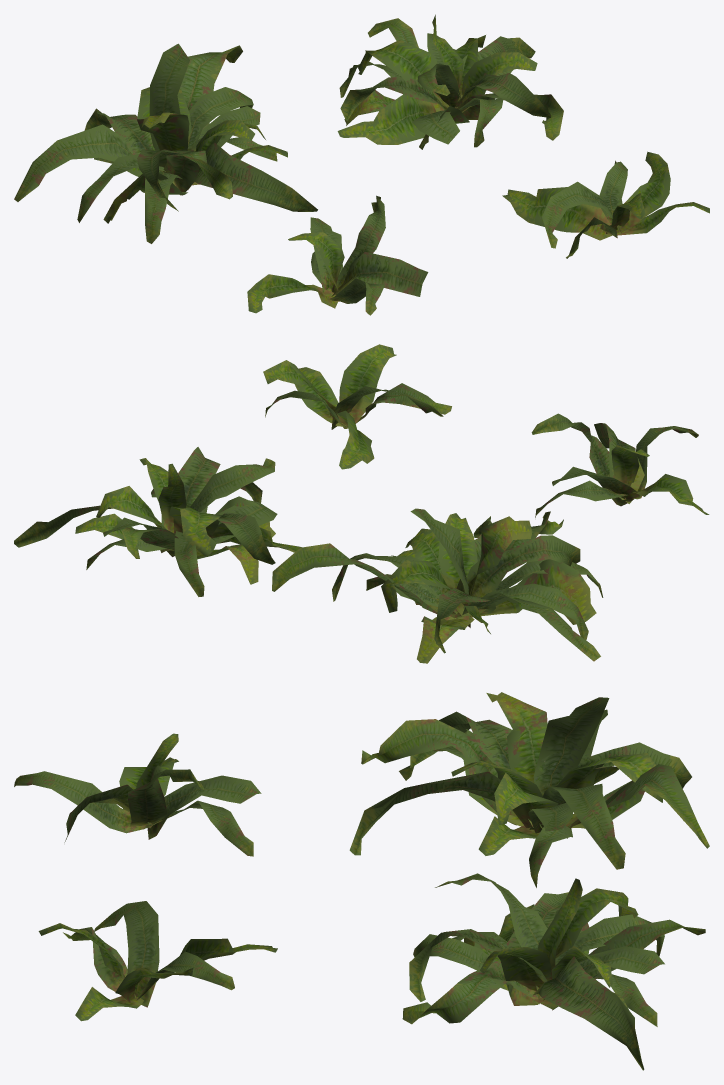
Rendered from fern_02_lod2.glb.
3 views of the same model, one above another, from view 1: azimuth 30°, elevation 25°; view 2: azimuth 150°, elevation 25°; view 3: azimuth 270°, elevation 25° (orthographic). The views are drawn at different scales.
Parts seen in each view (by area): view 1: fern_02_b, fern_02_c, fern_02_d, fern_02_a; view 2: fern_02_b, fern_02_c, fern_02_d, fern_02_a; view 3: fern_02_b, fern_02_c, fern_02_a, fern_02_d.
Boxes of the visible parts, box(x1,y1,x2,y2) form: fern_02_b: box(14, 43, 317, 243); fern_02_c: box(337, 14, 563, 149); fern_02_d: box(502, 151, 709, 258); fern_02_a: box(247, 195, 428, 315); fern_02_b: box(272, 508, 603, 663); fern_02_c: box(14, 447, 301, 596); fern_02_d: box(263, 344, 451, 469); fern_02_a: box(531, 413, 709, 517); fern_02_b: box(349, 692, 709, 887); fern_02_c: box(402, 873, 705, 1070); fern_02_a: box(14, 733, 261, 856); fern_02_d: box(38, 901, 277, 1021).
Size of the model in its own units: 1.97 by 0.4277 by 1.72.
Materials: 1 (1 with a texture image).
